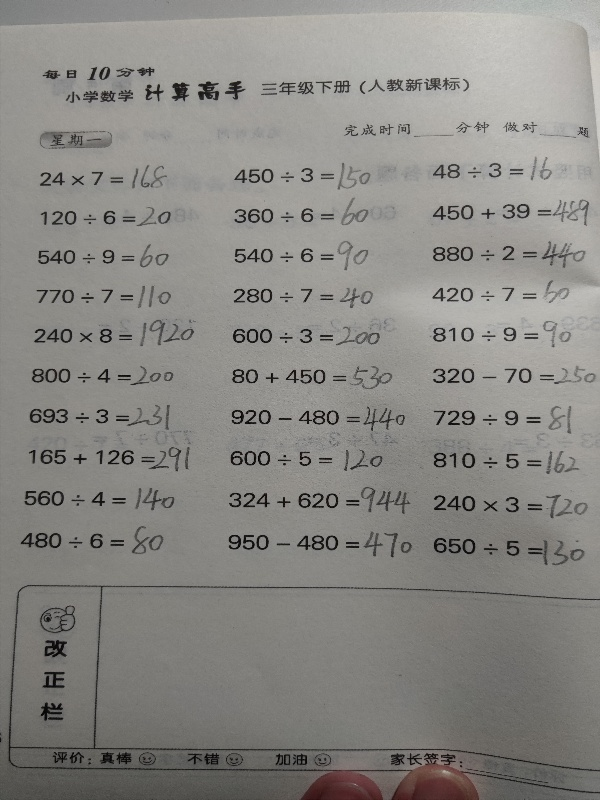equation: (226, 529, 420, 564), (24, 439, 200, 476), (429, 355, 600, 392), (225, 487, 416, 520), (228, 401, 411, 434), (433, 532, 591, 568), (431, 489, 592, 524), (17, 522, 168, 559), (430, 196, 593, 230), (429, 235, 588, 269), (228, 362, 396, 394), (9, 484, 179, 515), (231, 237, 372, 274), (228, 319, 390, 351), (429, 398, 575, 433), (426, 317, 575, 351), (32, 320, 205, 349), (430, 445, 586, 477), (224, 445, 392, 474), (27, 400, 182, 431), (34, 242, 172, 274), (232, 199, 378, 229), (34, 281, 181, 310), (232, 162, 378, 191), (429, 277, 570, 307), (27, 362, 176, 390), (230, 284, 377, 312), (430, 153, 561, 184), (37, 162, 171, 192), (37, 204, 174, 232)
